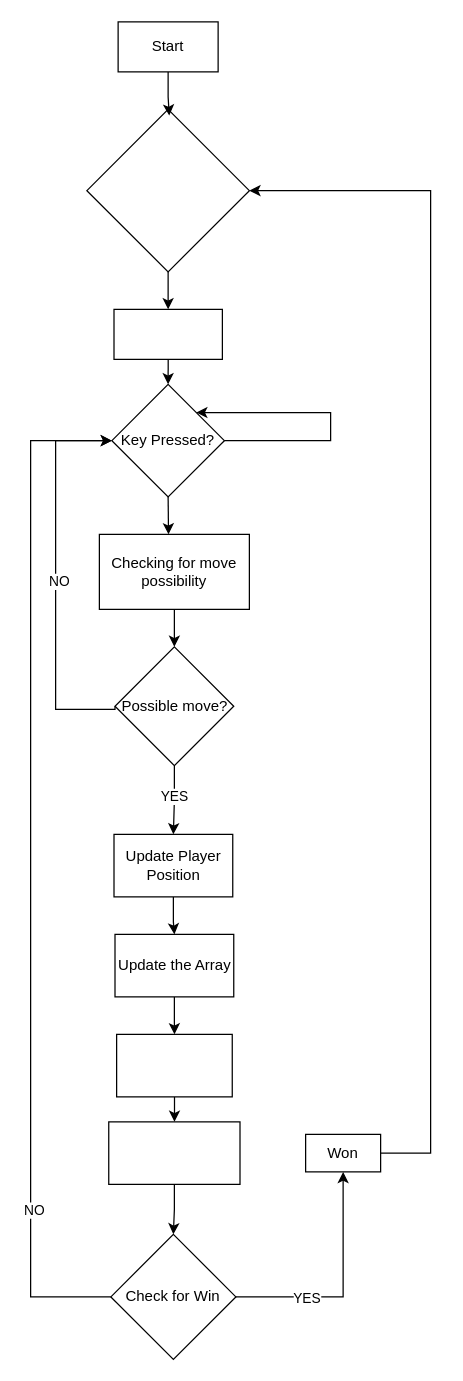
This 463x1381 diagram has some shape labels left out. Each missing label, with the centre of its shape:
"Choose a Puzzle" goes at point (167, 190).
"Load Puzzle" goes at point (167, 333).
"Update Move Count" goes at point (173, 1065).
"Update the Screen" goes at point (174, 1152).
